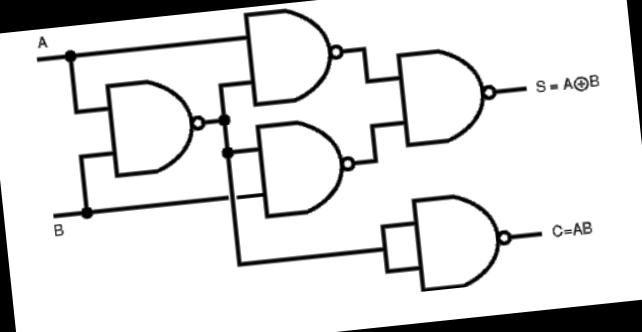nand: (396, 175, 520, 305), (96, 66, 213, 186), (390, 36, 504, 154), (235, 0, 350, 113), (246, 113, 360, 226)
